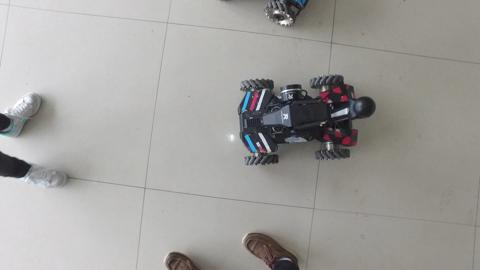chariot: (230, 72, 379, 172)
